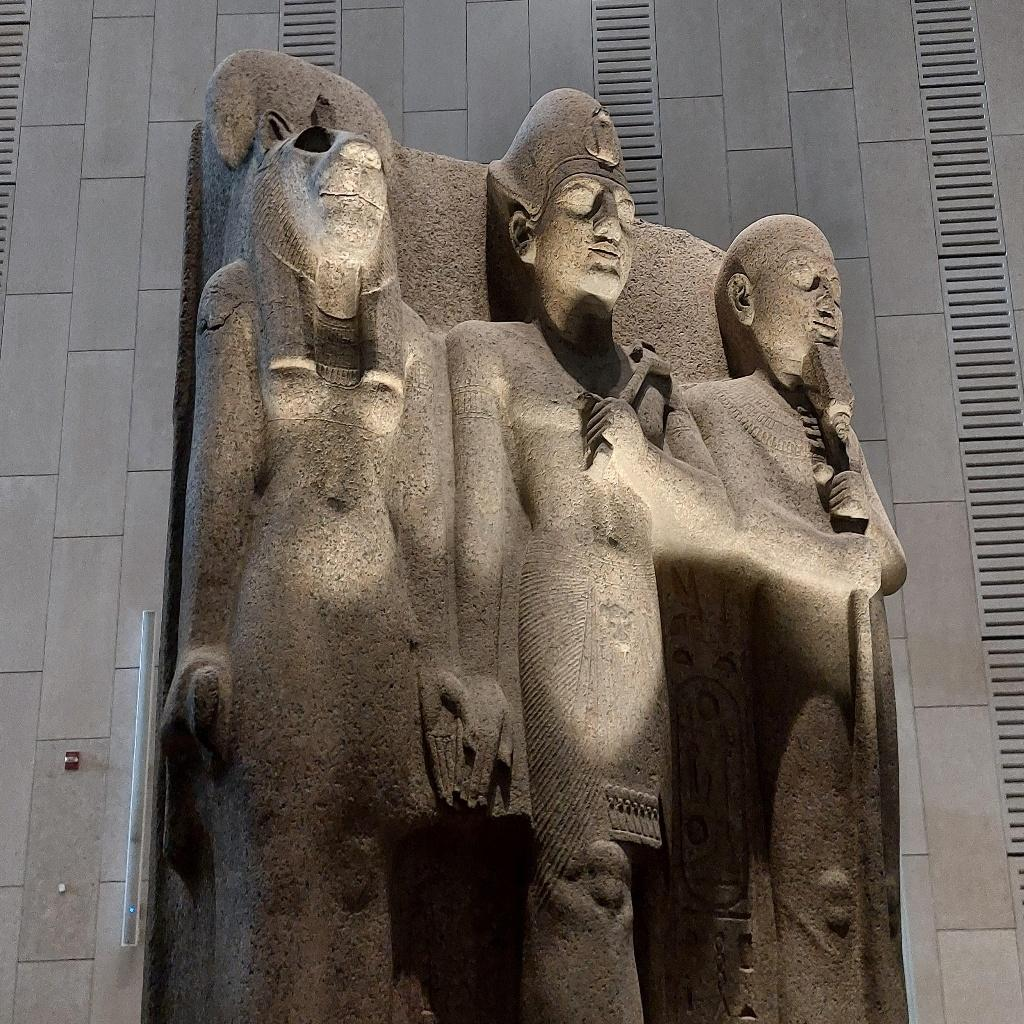Statue of God Ptah Ramesses ll Goddess Sekhmet: (154, 46, 904, 916)
